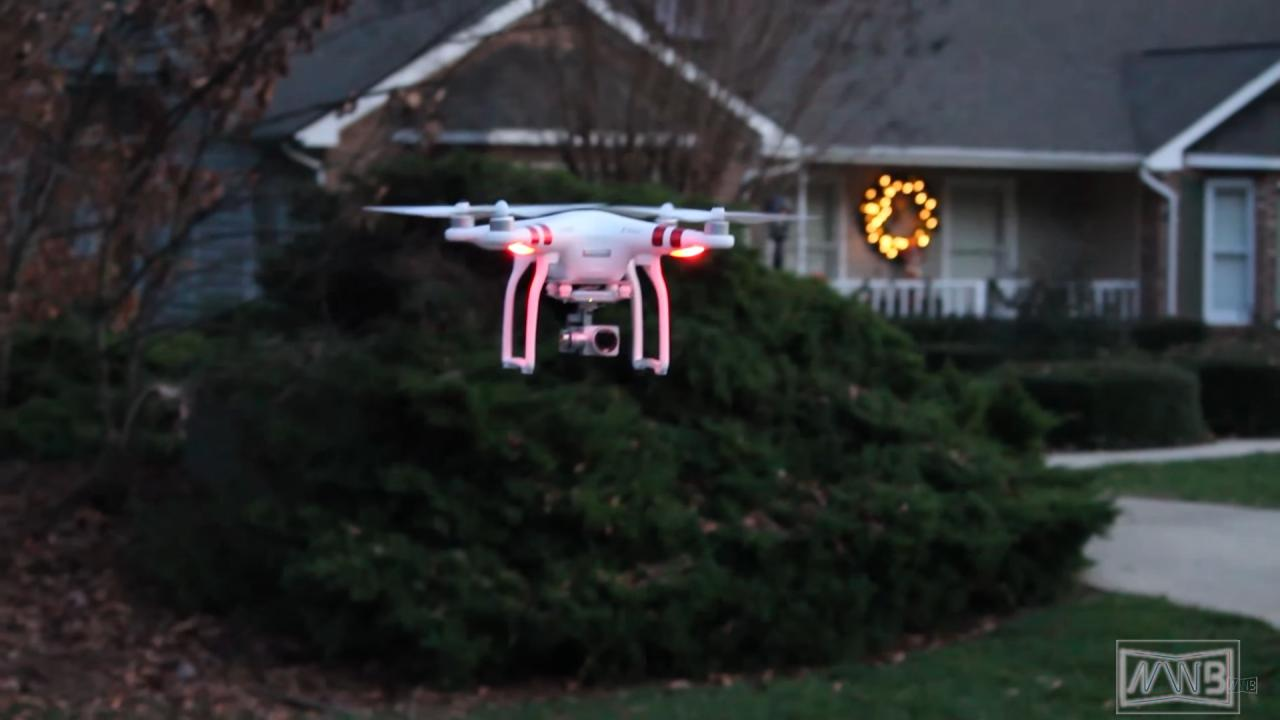Drone: (354, 186, 831, 386)
